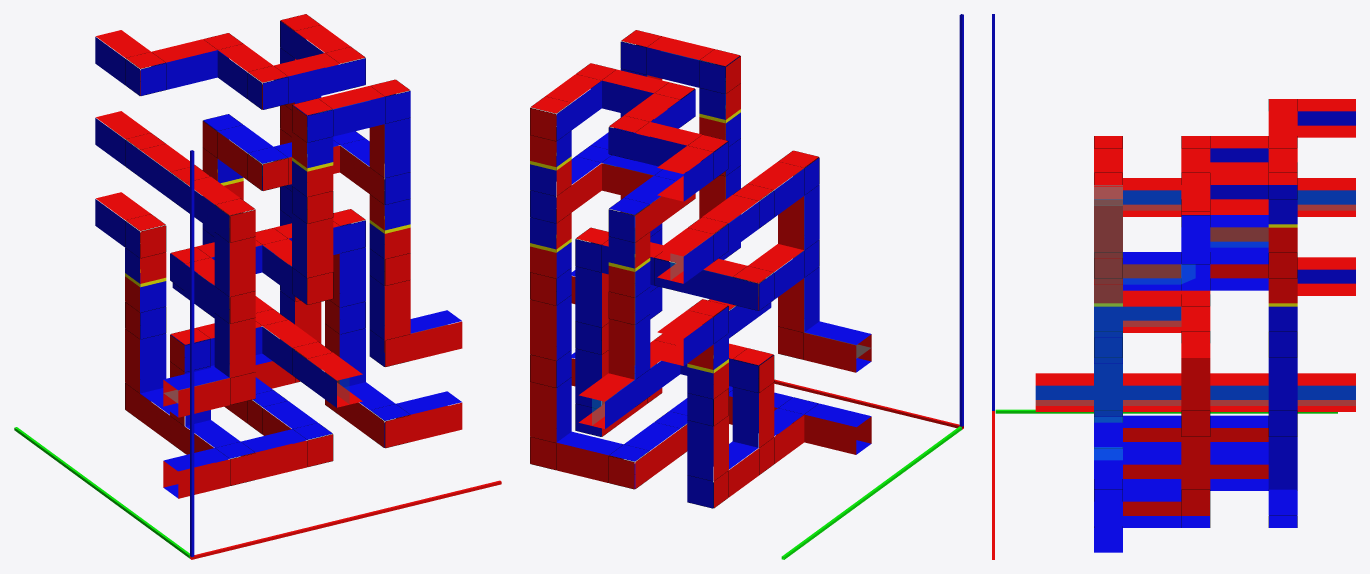
The model's file is majority_gate.gltf.
3 views of the same model, side by side, from view 1: azimuth 30°, elevation 25°; view 2: azimuth 150°, elevation 25°; view 3: azimuth 270°, elevation 25° (orthographic). The views are drawn at different scales.
Parts seen in each view (by area): view 1: edgeJ(2, 1, 2):-I (×2), edgeJ(1, 1, 2):-I (×2), axisK:-J, edgeJ(3, 1, 3):-I (×2), edgeK(1, 3, 1):-J, edgeK(2, 1, 2):-J, edgeK(2, 1, 3):-J, edgeI(2, 2, 4):-J, edgeI(1, 1, 0):-J, edgeI(3, 1, 0):-J, edgeI(3, 1, 1):-J, edgeK(1, 3, 0):-J (+77 smaller); view 2: edgeJ(2, 3, 1):-I (×2), edgeJ(1, 1, 2):-I (×2), edgeJ(1, 2, 0):-I (×2), axisK:+J, edgeJ(3, 2, 1):+J, edgeJ(1, 3, 0):+J, edgeJ(2, 3, 2):+J, edgeJ(3, 3, 1):+J, edgeJ(3, 3, 2):+J, edgeJ(3, 3, 0):+J, edgeJ(3, 3, 3):+J, edgeI(0, 1, 1):+J (+75 smaller); view 3: edgeJ(3, 1, 3):-I (×2), edgeJ(3, 3, 2):-I, edgeJ(3, 3, 3):-I, edgeJ(3, 2, 0):-I, edgeJ(3, 2, 1):-I, edgeJ(3, 3, 0):-I, edgeJ(3, 3, 1):-I, edgeJ(3, 1, 2):-I, edgeJ(3, 1, 1):-I, edgeK(3, 1, 1):CorrKJ, edgeK(3, 1, 2):CorrKJ, edgeK(3, 1, 3):CorrKJ (+87 smaller).
Boxes of the visible parts, x1,y1,x2,y2 form: edgeJ(2, 1, 2):-I (×2): (262, 213, 306, 293); edgeJ(1, 1, 2):-I (×2): (184, 232, 229, 312); axisK:-J: (191, 151, 194, 556); edgeJ(3, 1, 3):-I (×2): (340, 124, 384, 193); edgeK(1, 3, 1):-J: (140, 252, 166, 312); edgeK(2, 1, 2):-J: (307, 218, 333, 277); edgeK(2, 1, 3):-J: (307, 137, 333, 196); edgeI(2, 2, 4):-J: (288, 64, 340, 103); edgeI(1, 1, 0):-J: (255, 440, 307, 479); edgeI(3, 1, 0):-J: (410, 402, 462, 441); edgeI(3, 1, 1):-J: (410, 321, 462, 360); edgeK(1, 3, 0):-J: (140, 333, 166, 393); edgeJ(2, 3, 1):-I (×2): (605, 314, 650, 428); edgeJ(1, 1, 2):-I (×2): (774, 185, 819, 299); edgeJ(1, 2, 0):-I (×2): (729, 382, 774, 497); axisK:+J: (959, 15, 962, 426); edgeJ(3, 2, 1):+J: (575, 266, 601, 327); edgeJ(1, 3, 0):+J: (687, 420, 713, 480); edgeJ(2, 3, 2):+J: (608, 236, 634, 297); edgeJ(3, 3, 1):+J: (530, 299, 556, 360); edgeJ(3, 3, 2):+J: (530, 217, 556, 278); edgeJ(3, 3, 0):+J: (530, 382, 556, 442); edgeJ(3, 3, 3):+J: (530, 135, 556, 195); edgeI(0, 1, 1):+J: (804, 332, 856, 372); edgeJ(3, 1, 3):-I (×2): (1094, 199, 1181, 278); edgeJ(3, 3, 2):-I: (1268, 278, 1297, 331); edgeJ(3, 3, 3):-I: (1268, 199, 1297, 252); edgeJ(3, 2, 0):-I: (1181, 437, 1210, 489); edgeJ(3, 2, 1):-I: (1181, 358, 1210, 410); edgeJ(3, 3, 0):-I: (1268, 437, 1297, 489); edgeJ(3, 3, 1):-I: (1268, 358, 1297, 410); edgeJ(3, 1, 2):-I: (1094, 278, 1122, 331); edgeJ(3, 1, 1):-I: (1094, 358, 1122, 410); edgeK(3, 1, 1):CorrKJ: (1094, 364, 1122, 416); edgeK(3, 1, 2):CorrKJ: (1094, 285, 1122, 337); edgeK(3, 1, 3):CorrKJ: (1094, 206, 1122, 257).
Bounding box in the file's own units: 12.5 × 15.1 × 12.5.
